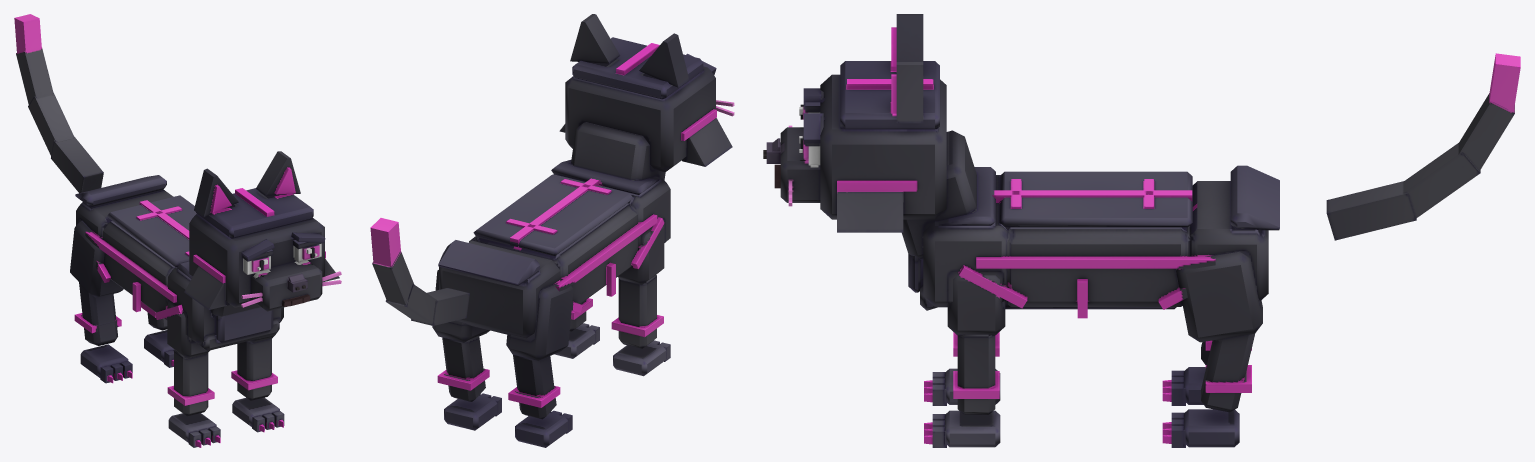
File: PanthereNeon_Rig.fbx
3 renders of one model, left to right at view 1: azimuth 30°, elevation 25°; view 2: azimuth 150°, elevation 25°; view 3: azimuth 270°, elevation 25°, orthographic. The views are drawn at different scales.
Visible parts, largest first — view 1: Head, Body, Tail, LegBR, LegFR, LegFL, LegBL; view 2: Body, Head, LegBR, LegFR, LegBL, Tail, LegFL; view 3: Body, Head, LegBL, Tail, LegFL, LegBR, LegFR.
Boxes of the visible parts, bbox=[...] form: Head: bbox=[184, 151, 341, 311]; Body: bbox=[75, 175, 283, 350]; Tail: bbox=[14, 14, 103, 193]; LegBR: bbox=[70, 220, 132, 383]; LegFR: bbox=[167, 304, 220, 447]; LegFL: bbox=[231, 333, 284, 432]; LegBL: bbox=[141, 302, 174, 367]; Body: bbox=[438, 122, 670, 338]; Head: bbox=[559, 14, 734, 172]; LegBR: bbox=[506, 279, 573, 447]; LegFR: bbox=[611, 226, 670, 376]; LegBL: bbox=[432, 270, 501, 430]; Tail: bbox=[370, 218, 469, 325]; LegFL: bbox=[554, 298, 599, 358]; Body: bbox=[902, 130, 1279, 318]; Head: bbox=[763, 14, 946, 232]; LegBL: bbox=[1162, 251, 1262, 447]; Tail: bbox=[1326, 53, 1520, 240]; LegFL: bbox=[924, 275, 1005, 447]; LegBR: bbox=[1162, 340, 1251, 405]; LegFR: bbox=[924, 332, 1000, 405].
Bounding box in the file's own units: 2.95 × 6 × 10.86.
Materials: 1 (1 with a texture image).
